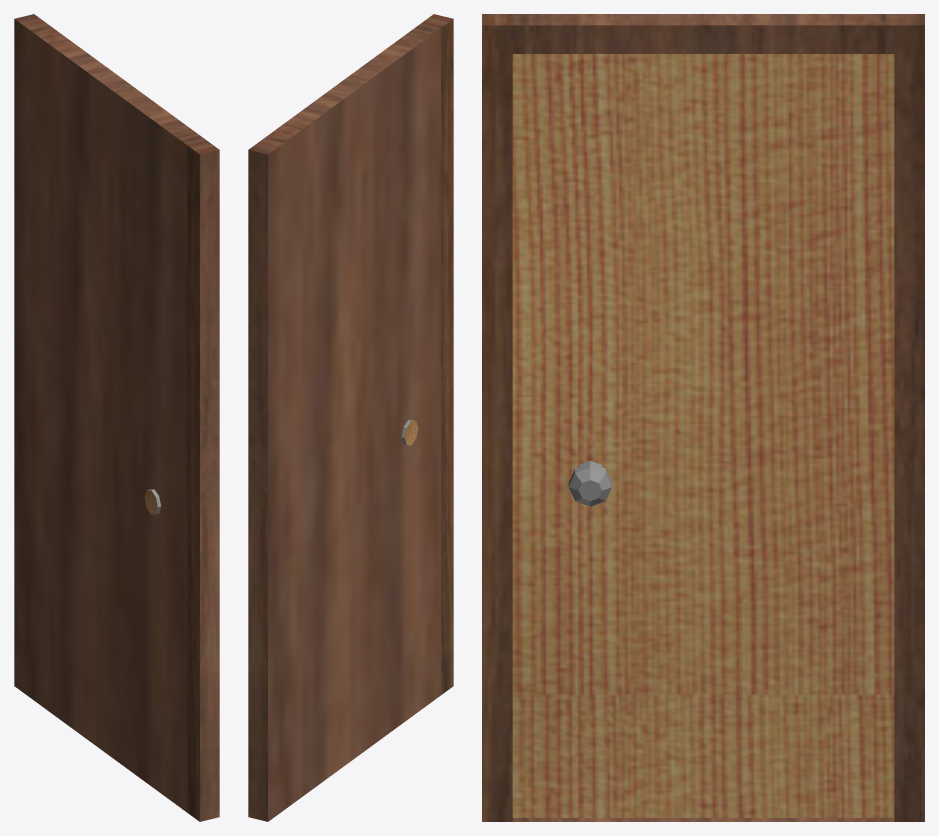
Rendered from DOOR_02.fbx.
3 renders of one model, left to right at view 1: azimuth 30°, elevation 25°; view 2: azimuth 150°, elevation 25°; view 3: azimuth 270°, elevation 25°, orthographic. The views are drawn at different scales.
Parts seen in each view (by area): view 1: DOOR_02; view 2: DOOR_02; view 3: DOOR_02.
Boxes of the visible parts, <box> form: DOOR_02: <box>14,14,219,821</box>; DOOR_02: <box>248,14,453,821</box>; DOOR_02: <box>482,14,924,821</box>.
Size of the model in its own units: 14.61 by 219 by 110.
